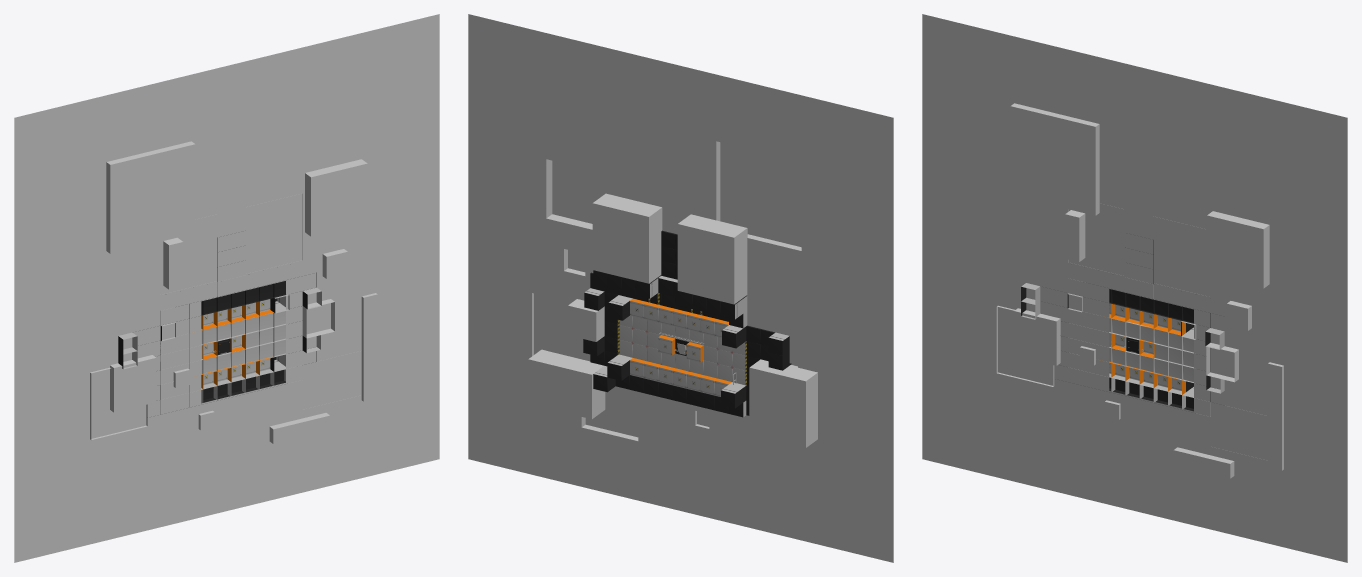
Rendered from BATTLE.fbx.
The picture shows the model from 3 angles, left to right: view 1: azimuth 30°, elevation 25°; view 2: azimuth 150°, elevation 25°; view 3: azimuth 330°, elevation 25°; orthographic projection.
Visible parts, largest first — view 1: BG_TR, S_groud_outsaid_6, S_background_6; view 2: BG_TR, S_background_6, S_groud_outsaid_6; view 3: BG_TR, S_groud_outsaid_6, S_background_6.
Part boxes in pixels (bbox=[...]): BG_TR: bbox=[14, 14, 439, 562]; S_groud_outsaid_6: bbox=[118, 237, 321, 399]; S_background_6: bbox=[90, 194, 334, 439]; BG_TR: bbox=[468, 14, 893, 562]; S_background_6: bbox=[528, 193, 817, 447]; S_groud_outsaid_6: bbox=[583, 230, 791, 415]; BG_TR: bbox=[922, 14, 1347, 562]; S_groud_outsaid_6: bbox=[1021, 240, 1224, 416]; S_background_6: bbox=[996, 209, 1238, 386].
Size of the model in its own units: 0.3 by 0.3 by 0.0235.
